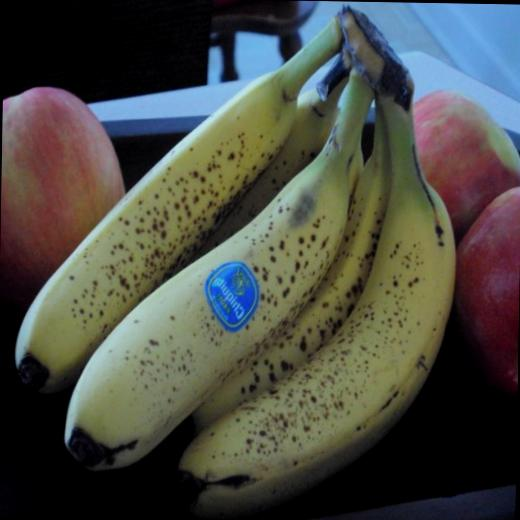Banana: (10, 0, 463, 520)
